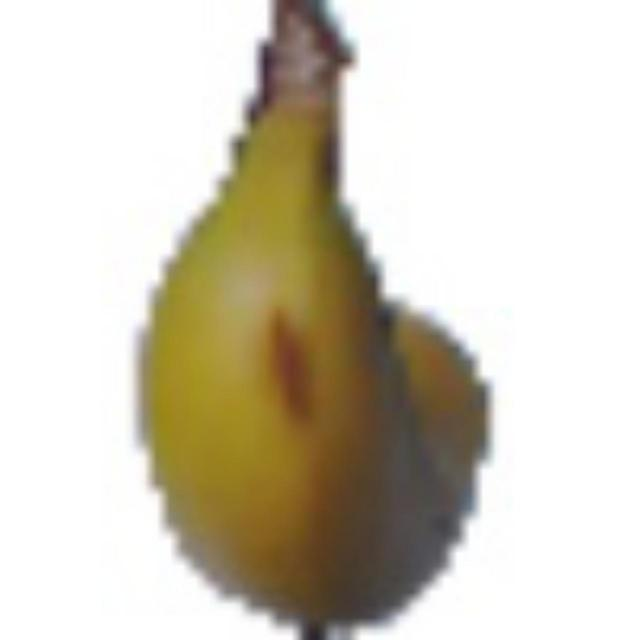banana: (132, 0, 504, 633)
